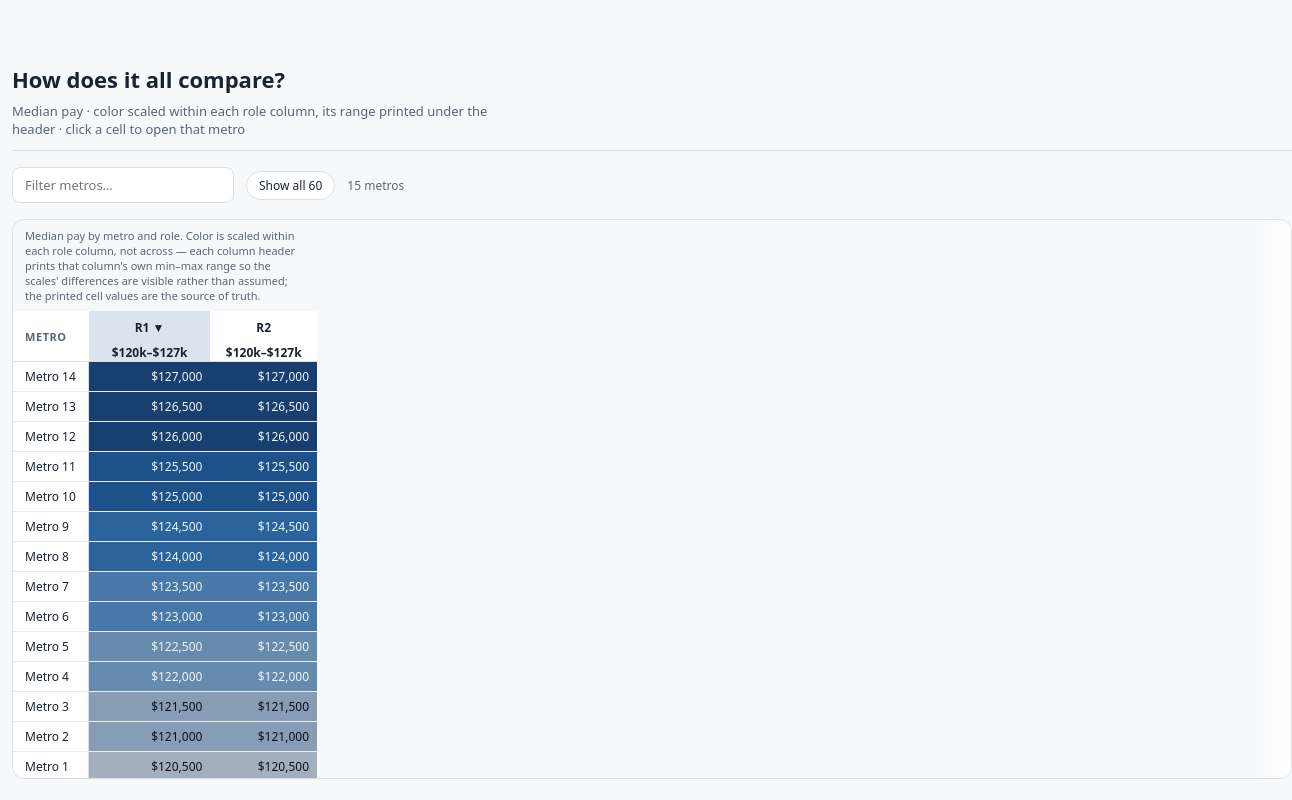
Scenario: RoleHeatmap narrow cap › search still reaches metros outside the cap
The width and height of the screenshot is (1292, 800).
Note: "Metro 40" is 41st by employment — well outside both the 15 and 50 caps.
Step 1. Type "Metro 40" into the search field → (123, 185), box [12,167,234,203]
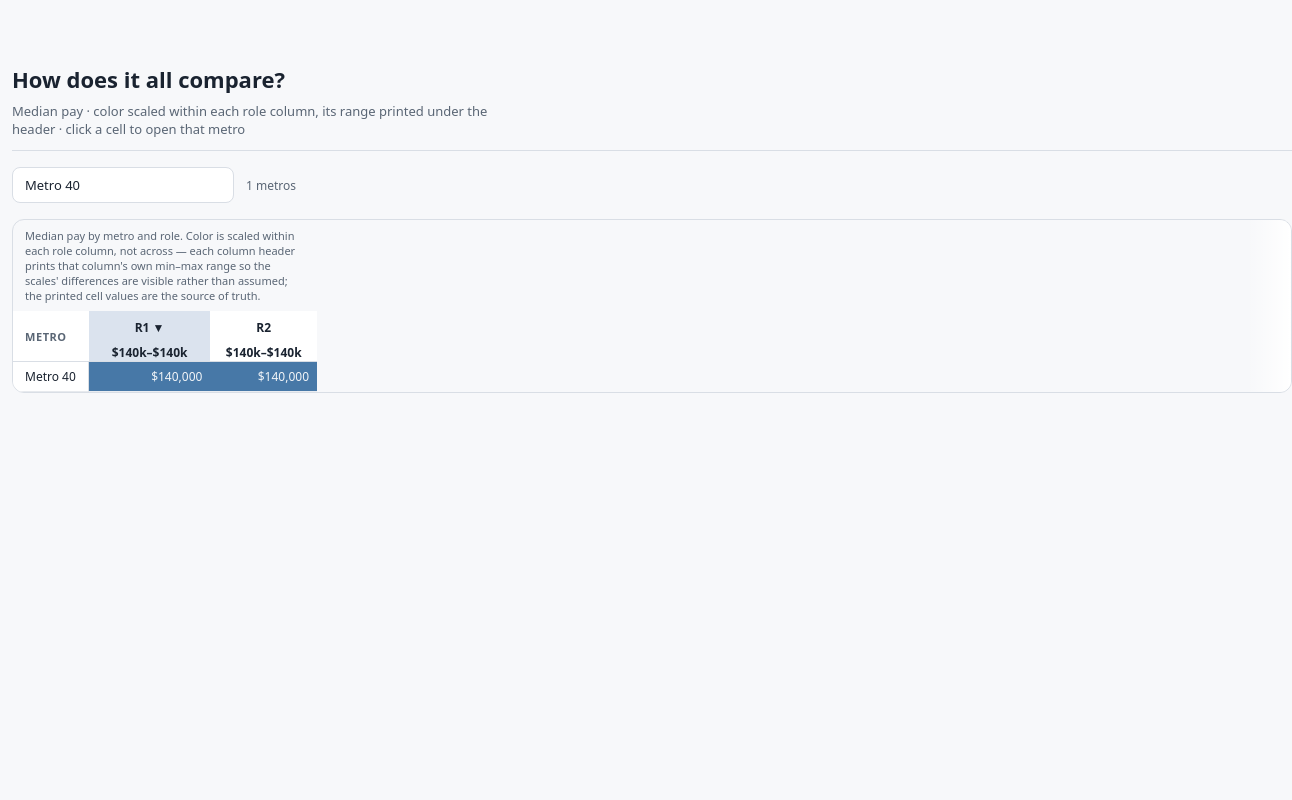
Check: the text "1 metros" is shown, box [246,176,296,194]
